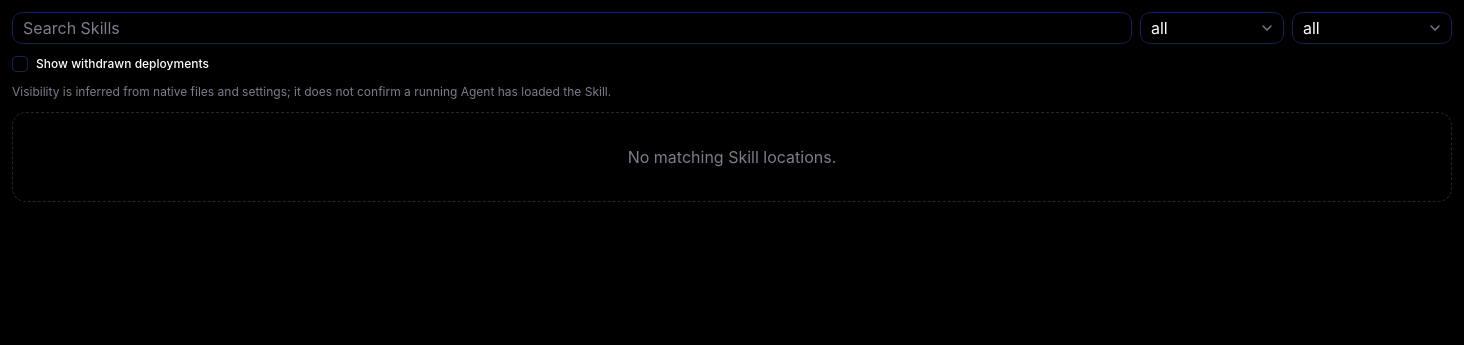
Test: Skill usage and details › keeps withdrawn history out of active usage and offers redeployment
Check: the text "reviewer" is not shown
Click the checkbox named "Show withdrawn deployments" at (20, 64), box [12,56,28,72]
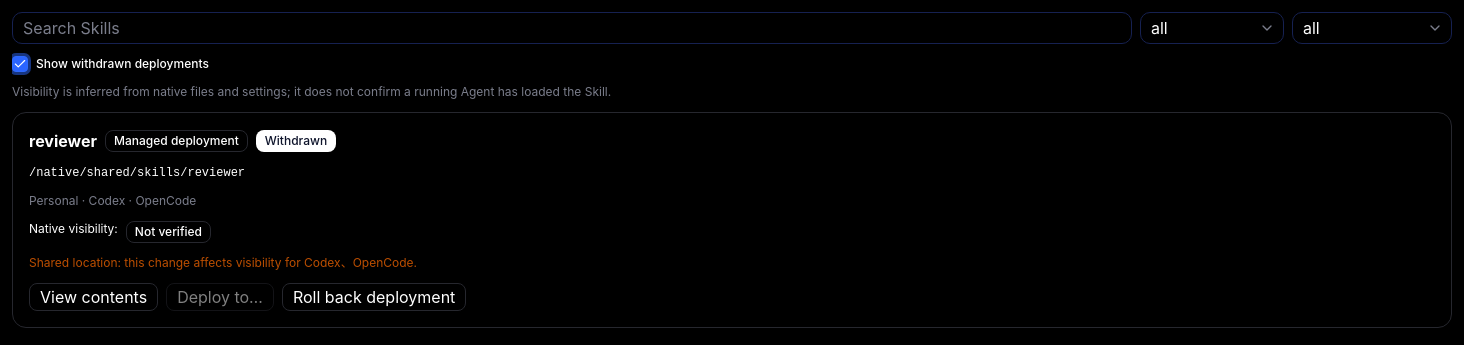
Check: the text "Withdrawn" is shown, box [256,130,336,152]
Check: the button "Deploy to…" is shown, box [166,283,274,311]
